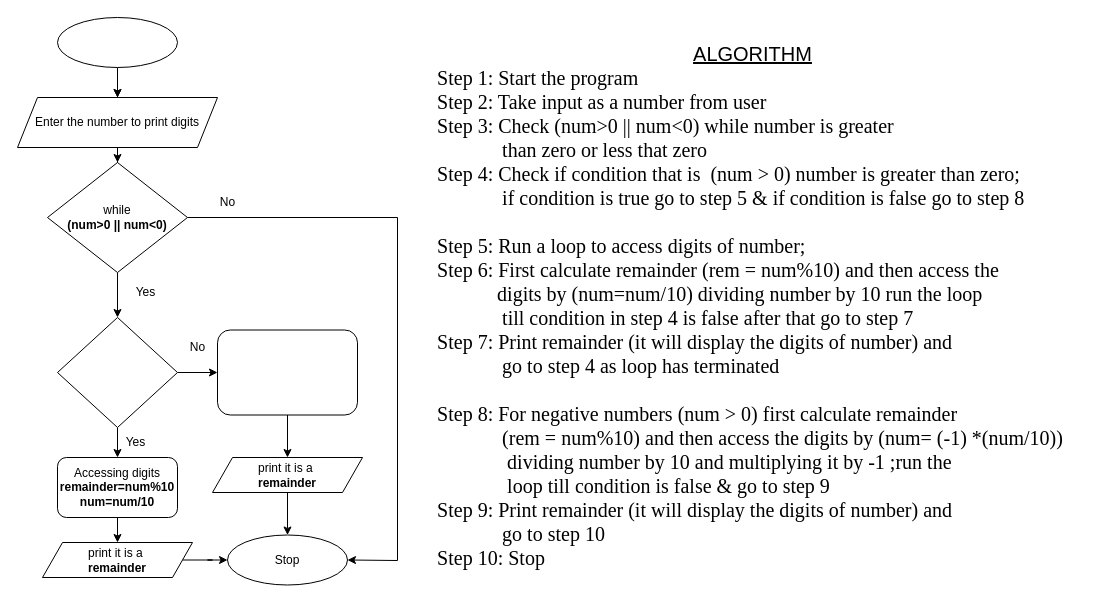
Image size: 1095x603. Some labels were removed from this diagram. Here are the shapes that lost their labels. From the top down, the centre of each, then its label:
At point 117,42: "Start".
At point 117,372: "Check if num > 0".
At point 287,372: "For negative number (num<0) perform remainder=num%10 num=(-1)*(num/10)".
